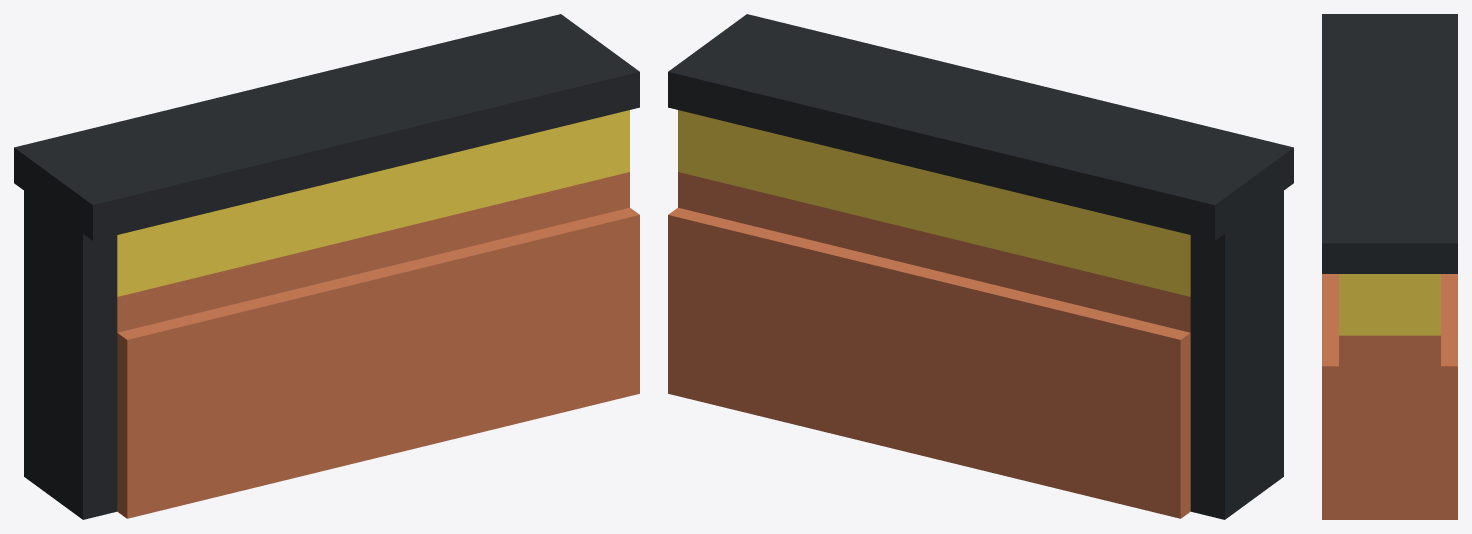
The model's file is wallend.glb.
The picture shows the model from 3 angles, left to right: view 1: azimuth 30°, elevation 25°; view 2: azimuth 150°, elevation 25°; view 3: azimuth 270°, elevation 25°; orthographic projection. The views are drawn at different scales.
Visible parts, largest first — view 1: generated(Clone); view 2: generated(Clone); view 3: generated(Clone).
Part boxes in pixels (x1,y1,x2,y2): generated(Clone): (14,14,639,519); generated(Clone): (668,14,1293,519); generated(Clone): (1322,14,1457,519).
Bounding box in the file's own units: 16 × 9 × 4.
